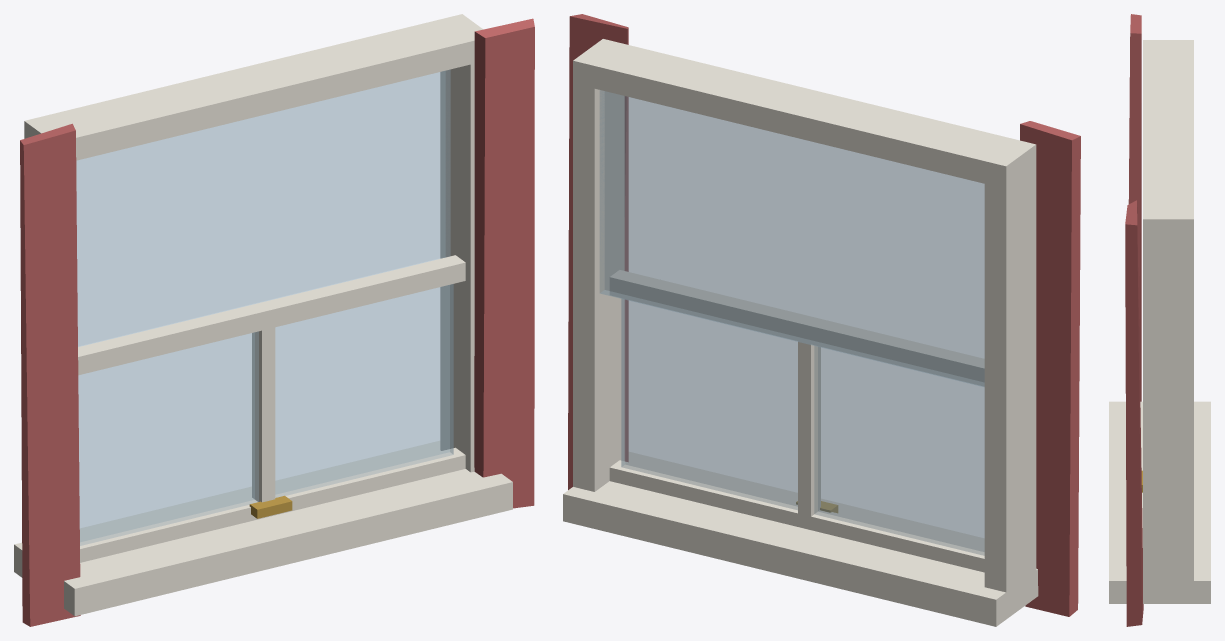
Rendered from window.fbx.
3 renders of one model, left to right at view 1: azimuth 30°, elevation 25°; view 2: azimuth 150°, elevation 25°; view 3: azimuth 270°, elevation 25°, orthographic. The views are drawn at different scales.
Parts seen in each view (by area): view 1: window, MECH_sash; view 2: window, MECH_sash; view 3: window.
Part boxes in pixels (bbox=[...]): window: bbox=[14, 14, 534, 626]; MECH_sash: bbox=[78, 255, 465, 562]; window: bbox=[563, 14, 1080, 626]; MECH_sash: bbox=[609, 270, 984, 572]; window: bbox=[1109, 14, 1210, 626].
Size of the model in its own units: 4.69 by 4.26 by 0.96.
